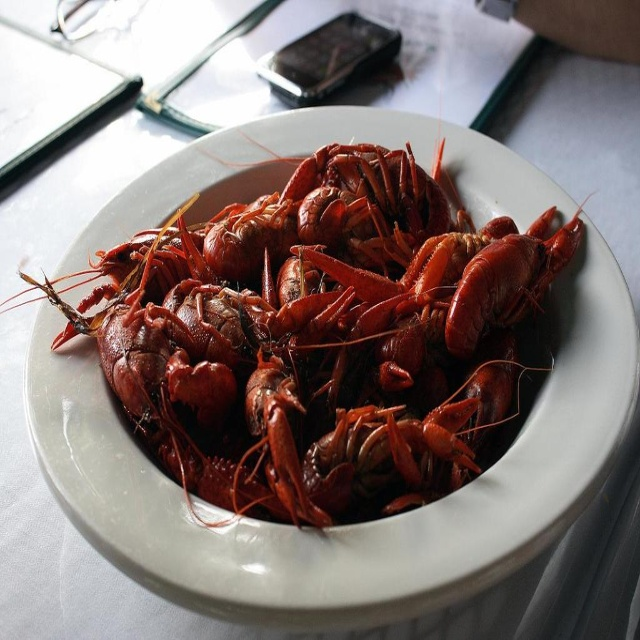Shrimp: (0, 75, 599, 529)
